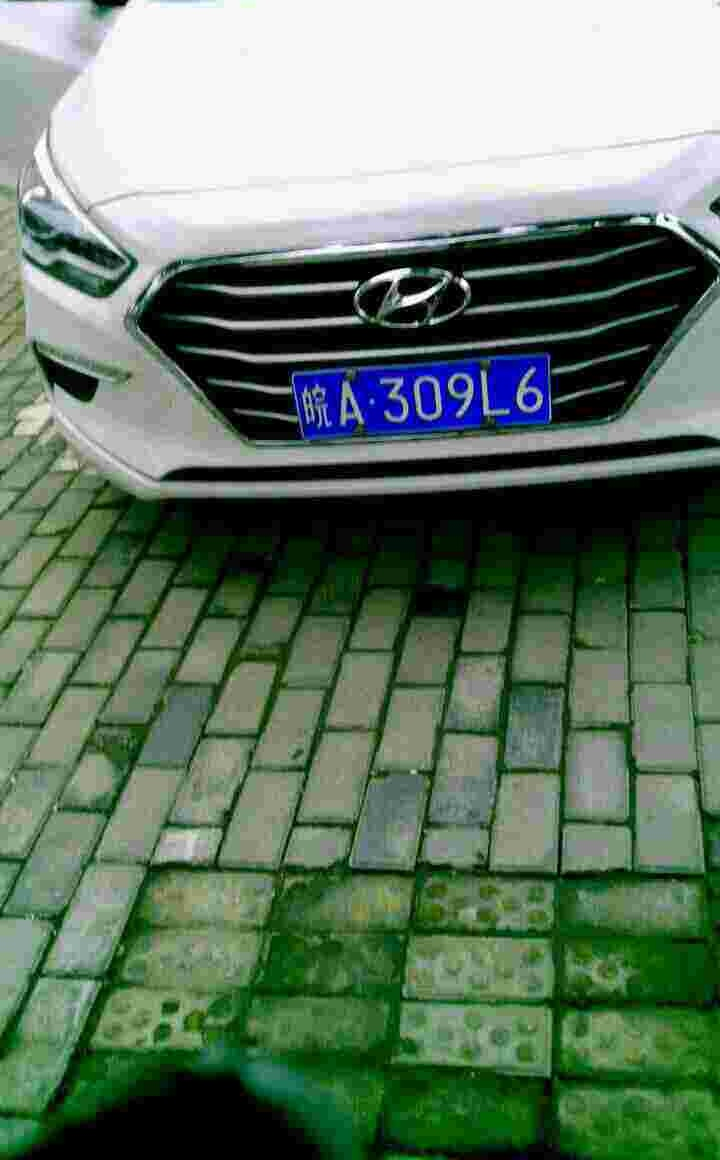license_plate: (301, 357, 559, 431)
